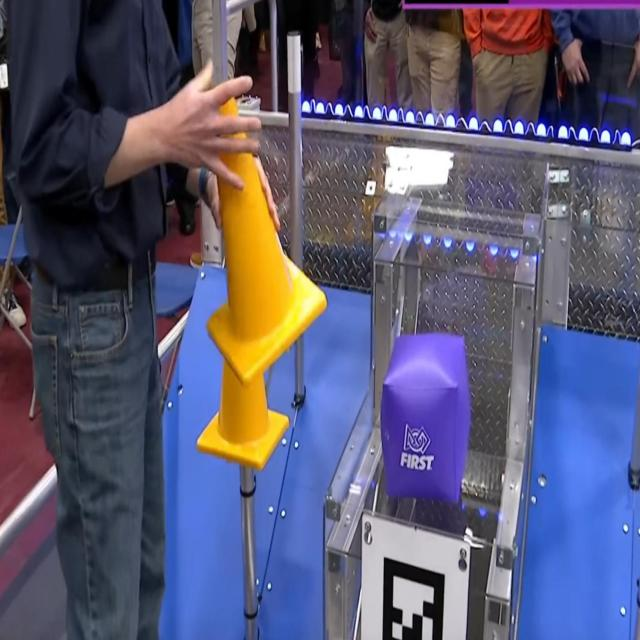frc_cone: (202, 78, 328, 374), (198, 265, 295, 471)
frc_cube: (382, 336, 471, 505)
